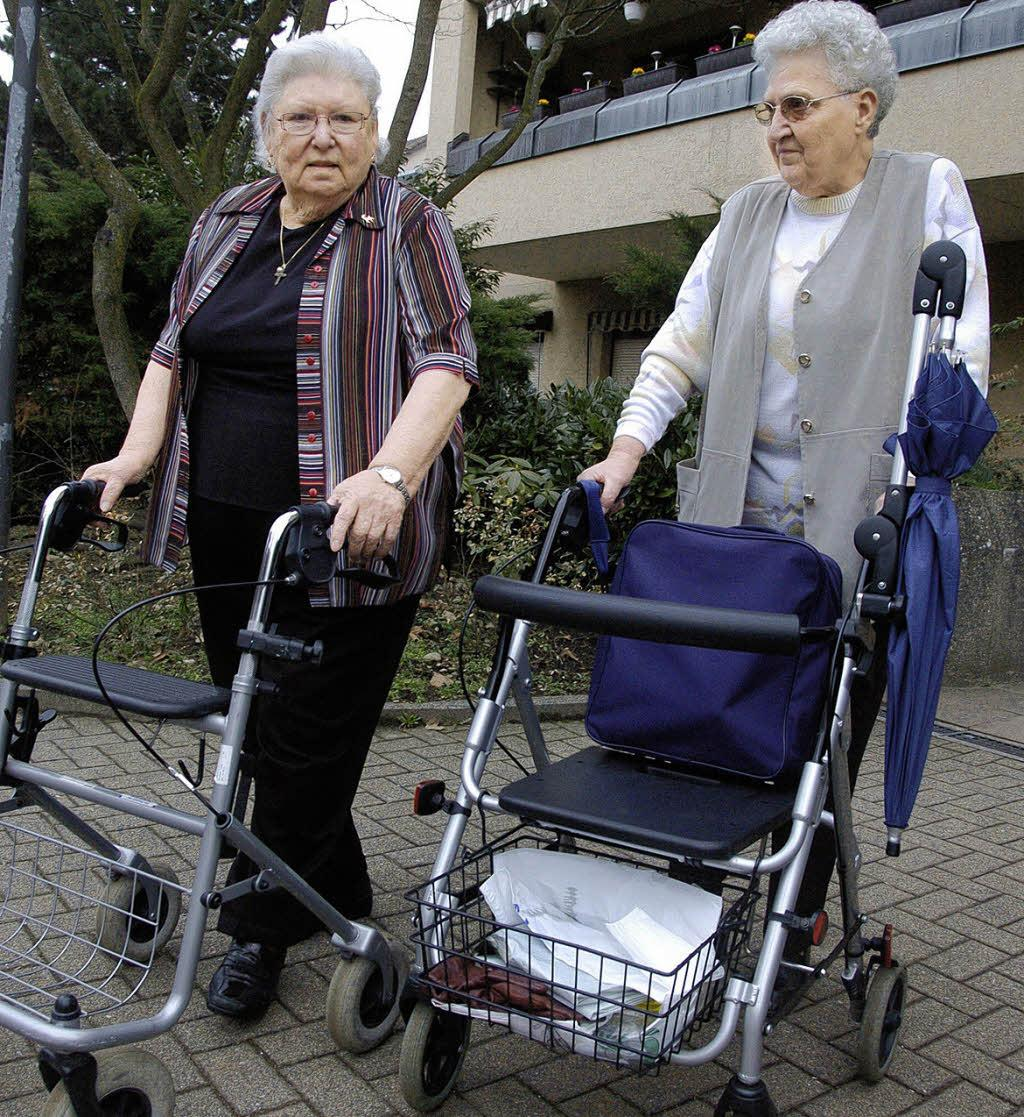walking_frame: (396, 0, 992, 1117), (0, 32, 482, 1117)
